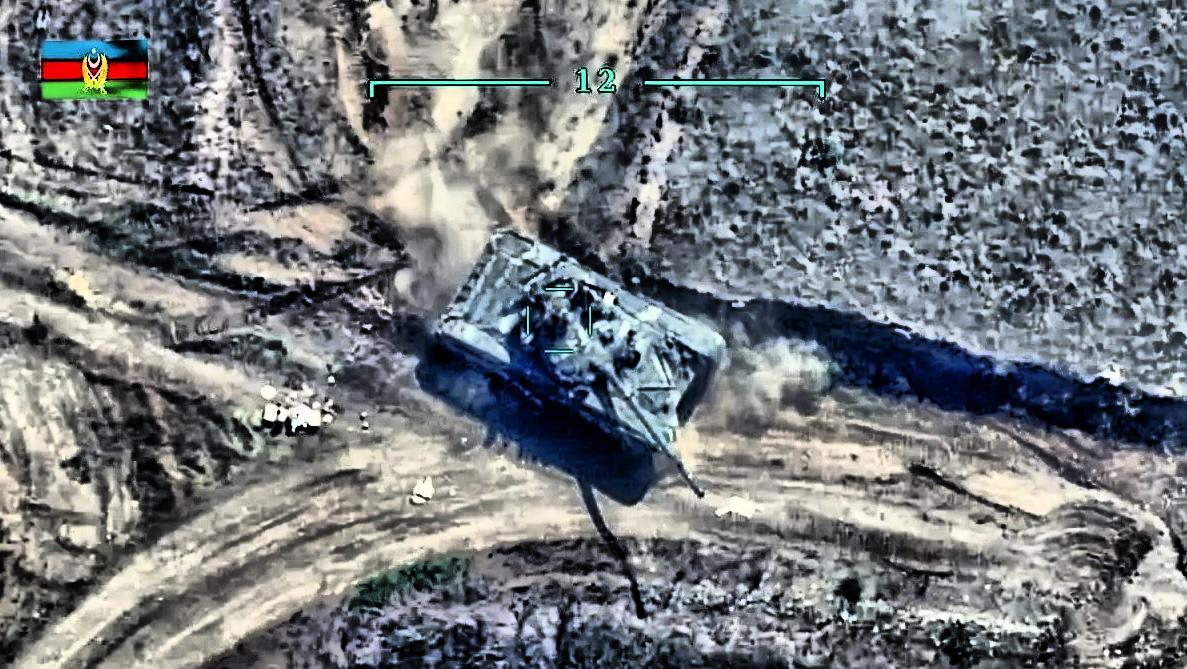military-vehicle: (431, 230, 721, 496)
